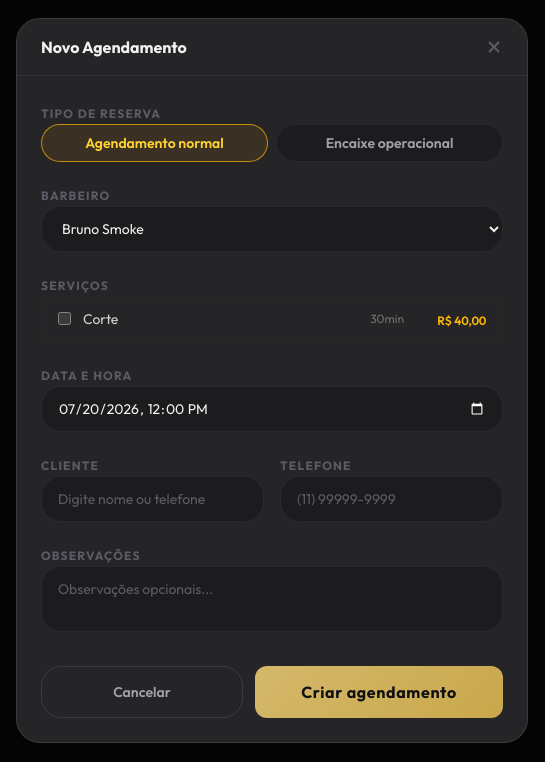
busca de cliente no modal de agendamento › remove campo separado e usa Cliente para buscar por nome
Step 1. Type "ma" into the search field titled "Cliente" → (152, 498), box x1=41 y1=476 x2=264 y2=522
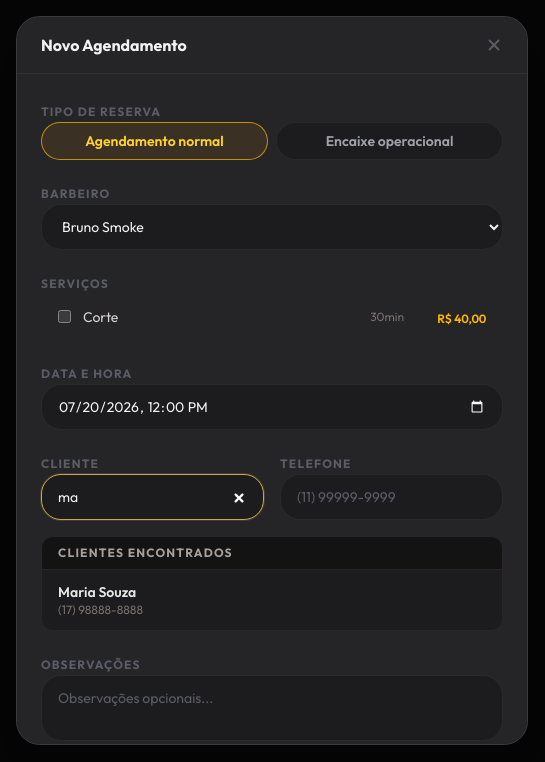
Expected: the text "Clientes encontrados" is shown, x1=58 y1=544 x2=233 y2=560
